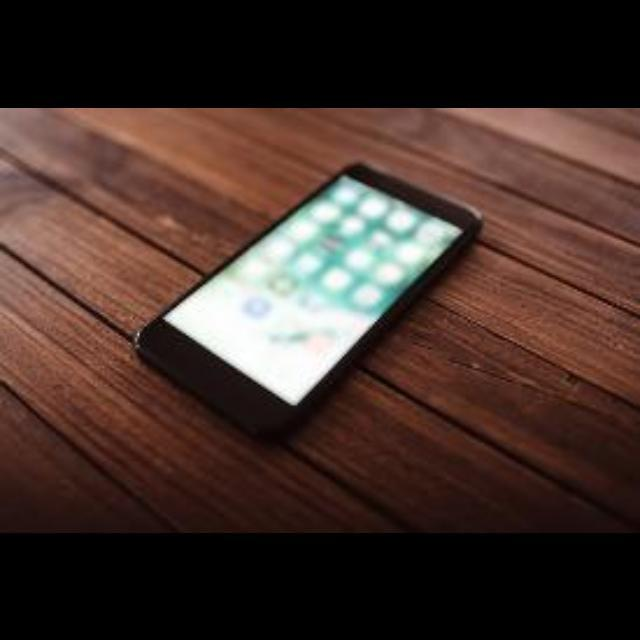Phone: (115, 172, 499, 424)
